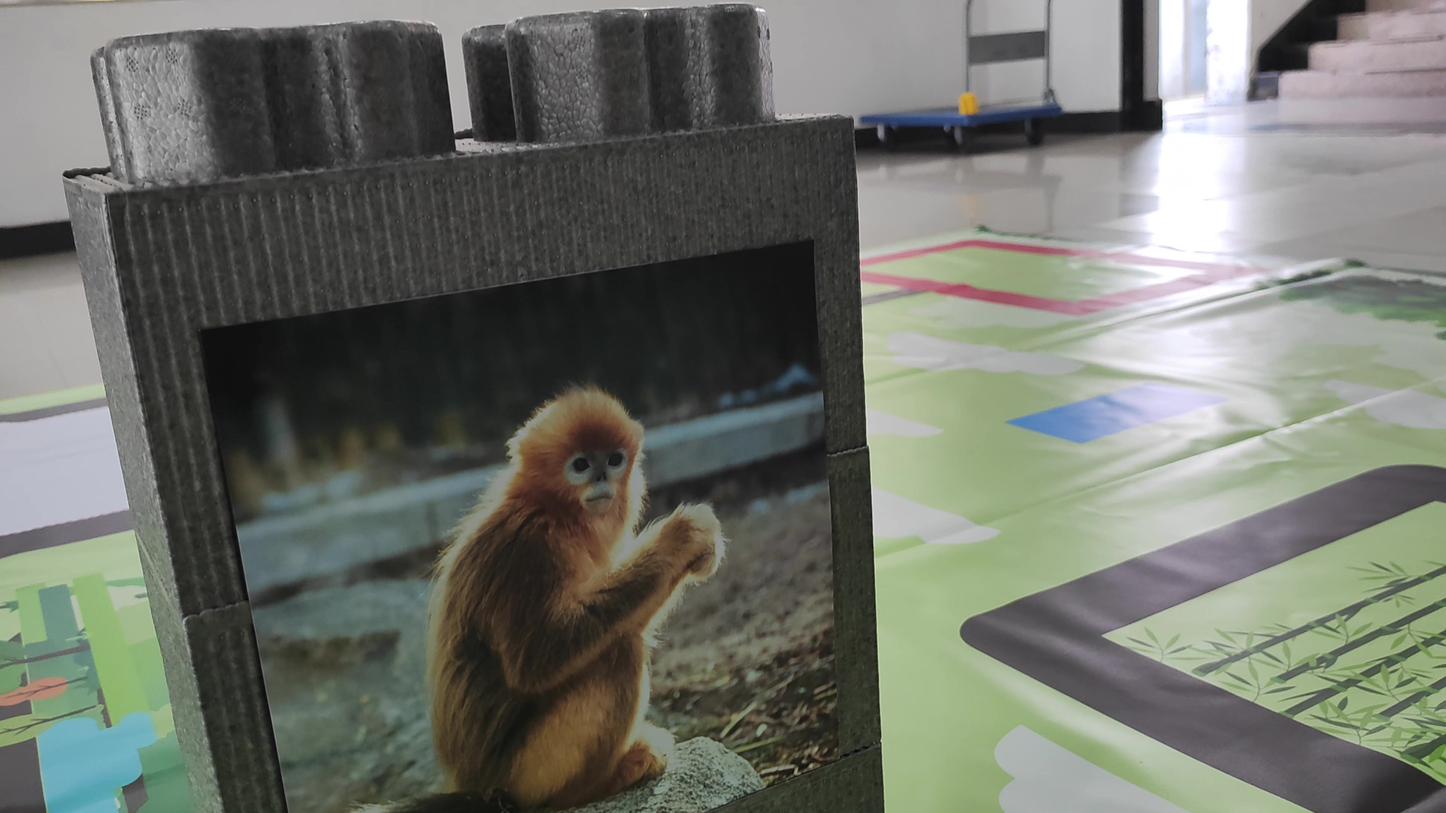monkey: (293, 362, 746, 807)
